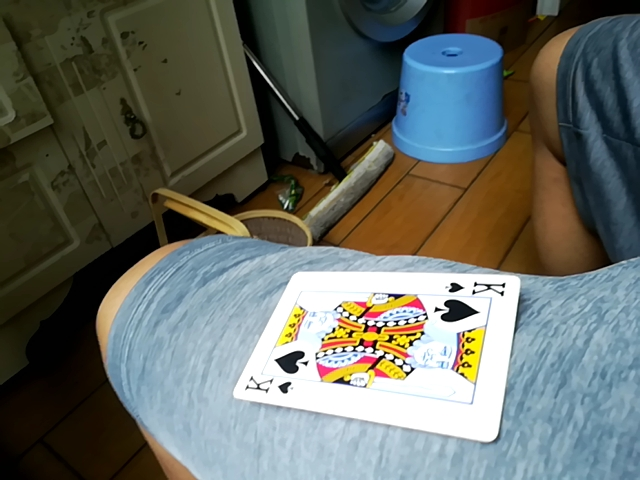ht k: (234, 266, 521, 443)
